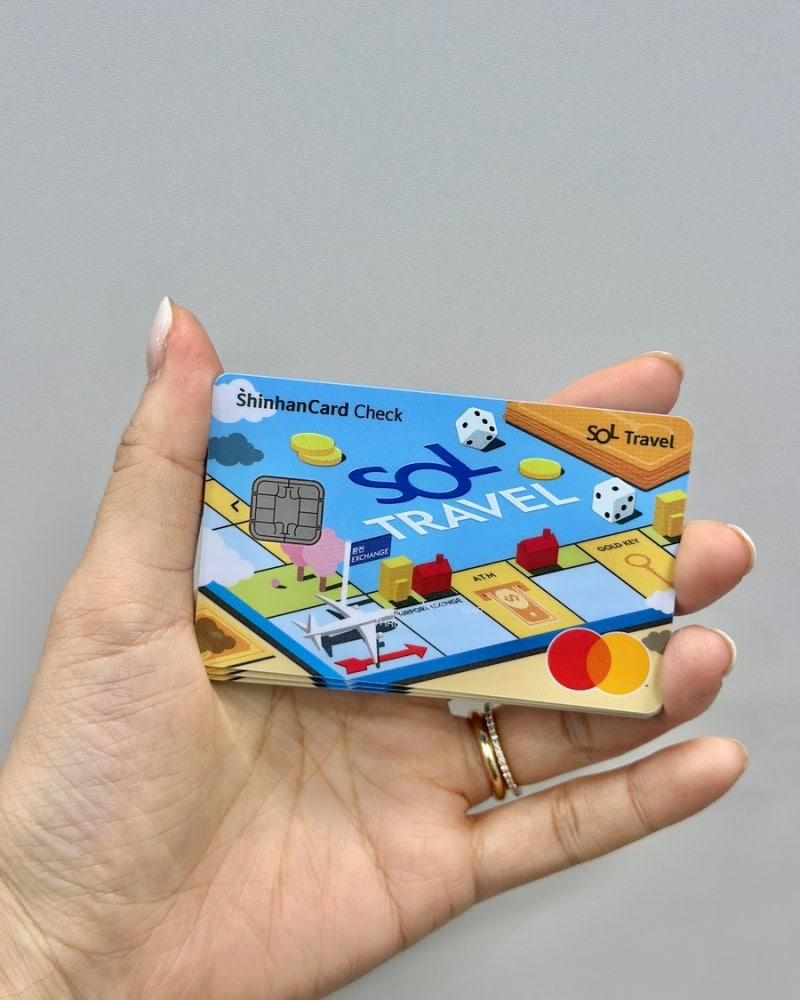Credit_card: (196, 374, 692, 717)
